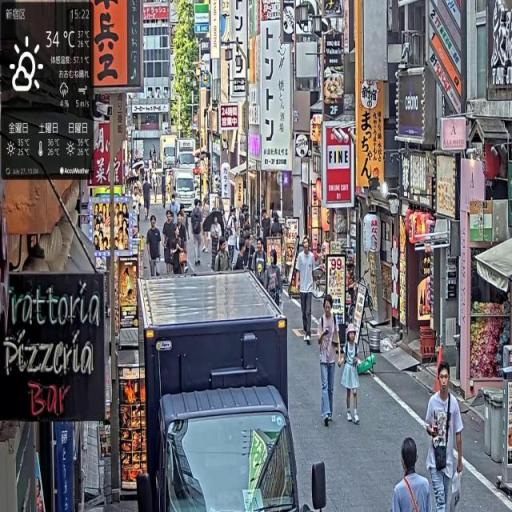person: (425, 361, 465, 511), (317, 294, 344, 427), (292, 235, 321, 347), (394, 438, 435, 512), (339, 324, 365, 428), (148, 215, 165, 279), (191, 199, 205, 270), (163, 209, 176, 276), (215, 238, 232, 272)
